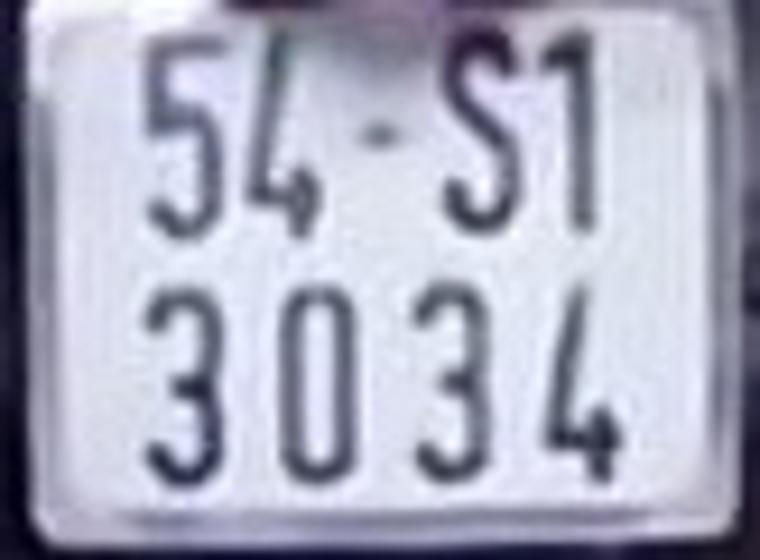-: (355, 123, 402, 154)
0: (276, 284, 360, 481)
1: (542, 20, 596, 234)
3: (407, 278, 494, 485), (143, 289, 223, 487)
4: (536, 284, 625, 488), (243, 29, 320, 241)
5: (144, 30, 221, 242)
S: (434, 15, 517, 237)
